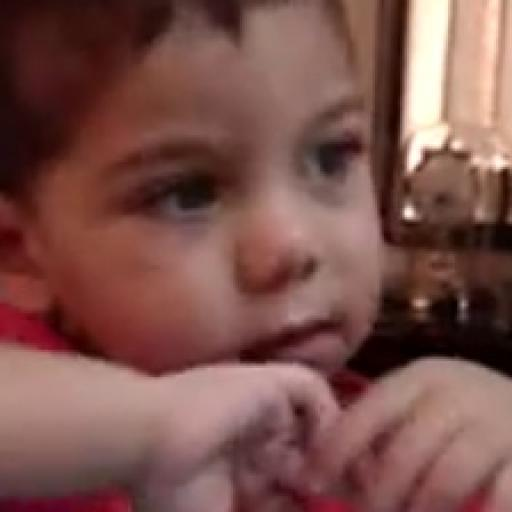Autism: (24, 32, 437, 412)
